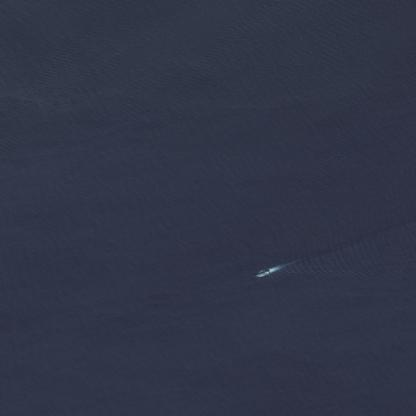ship: (253, 260, 272, 284)
